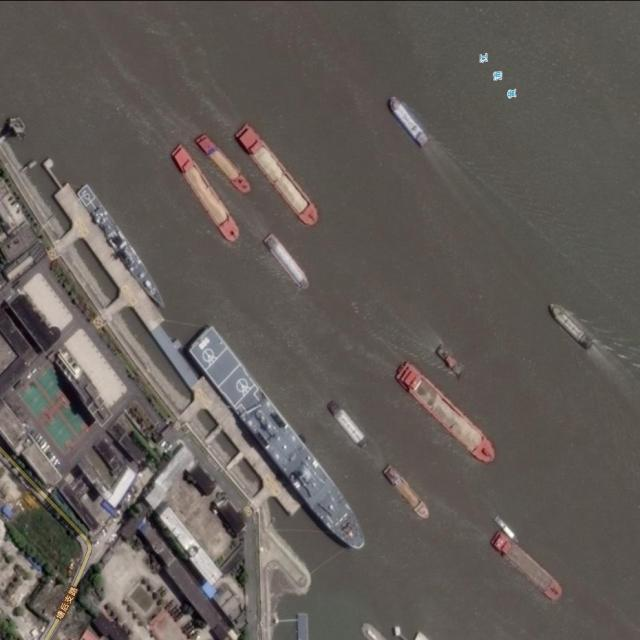Cargo: (392, 357, 502, 469), (233, 120, 325, 230), (165, 141, 248, 247), (488, 529, 566, 604), (193, 130, 255, 200), (262, 233, 314, 292), (382, 463, 433, 521), (382, 93, 434, 148), (545, 299, 597, 350), (325, 398, 373, 453), (436, 345, 465, 378)
Frigate: (76, 182, 172, 313)
Landing: (182, 323, 374, 554)
Other Ship: (493, 514, 523, 546)
